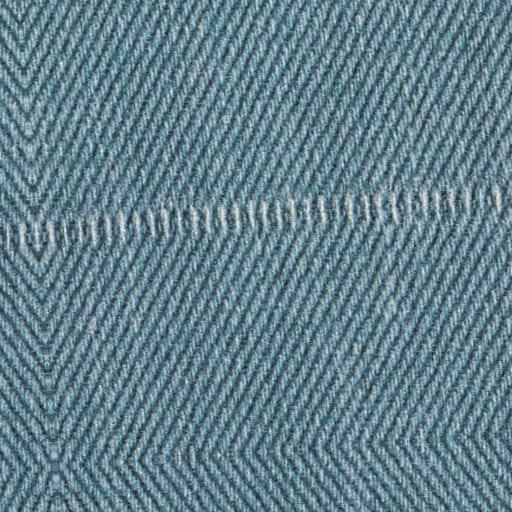slub: (5, 185, 512, 258)
